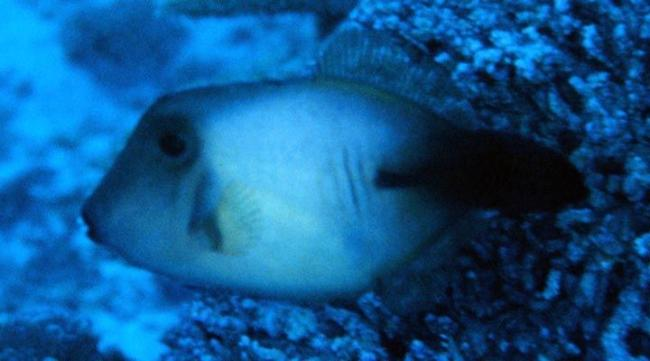fish: (81, 33, 593, 300)
